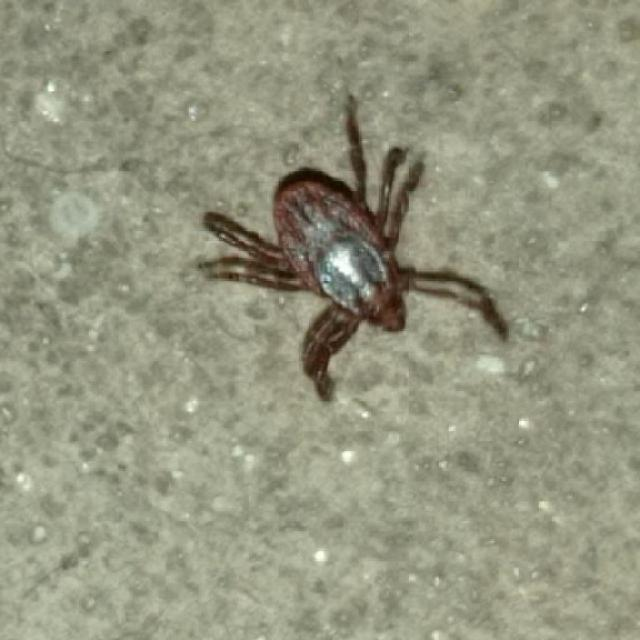Rhipicephalus Sanguineus-F: (197, 101, 510, 403)
